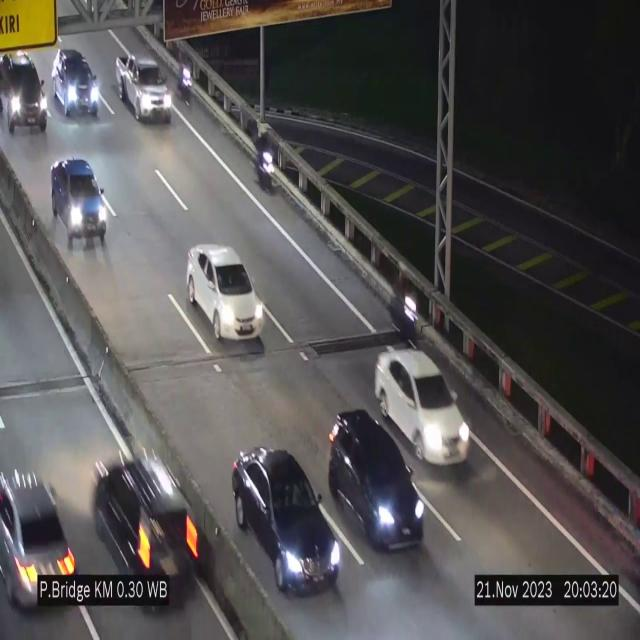Car: (88, 430, 202, 630), (232, 448, 342, 589), (0, 441, 78, 624), (328, 410, 424, 549), (374, 347, 470, 465), (186, 246, 264, 340), (47, 156, 110, 249), (113, 51, 174, 126), (0, 47, 45, 135), (52, 50, 102, 124)
Motorcycle: (388, 256, 418, 344), (252, 126, 278, 200), (174, 50, 195, 112)
